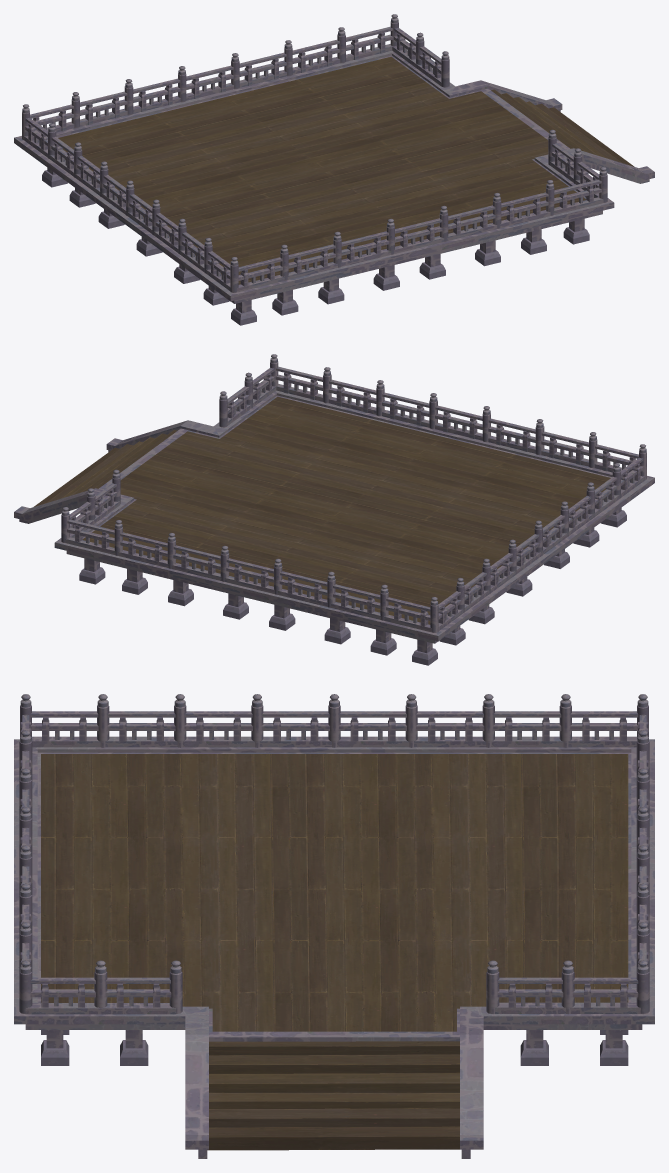
File: Homeworld_Exterior_Dq_Build_House_35_A_Lod0.fbx
3 renders of one model, top to bottom at view 1: azimuth 30°, elevation 25°; view 2: azimuth 150°, elevation 25°; view 3: azimuth 270°, elevation 25°, orthographic. The views are drawn at different scales.
Visible parts, largest first — view 1: Homeworld_Exterior_Dq_Build_House_35_A_Lod0; view 2: Homeworld_Exterior_Dq_Build_House_35_A_Lod0; view 3: Homeworld_Exterior_Dq_Build_House_35_A_Lod0.
Boxes of the visible parts, x1=… form: Homeworld_Exterior_Dq_Build_House_35_A_Lod0: x1=14, y1=14, x2=654, y2=325; Homeworld_Exterior_Dq_Build_House_35_A_Lod0: x1=14, y1=354, x2=654, y2=665; Homeworld_Exterior_Dq_Build_House_35_A_Lod0: x1=14, y1=694, x2=654, y2=1158.
Size of what is drawn, in the model's own units: 19.61 by 3.22 by 15.25.
